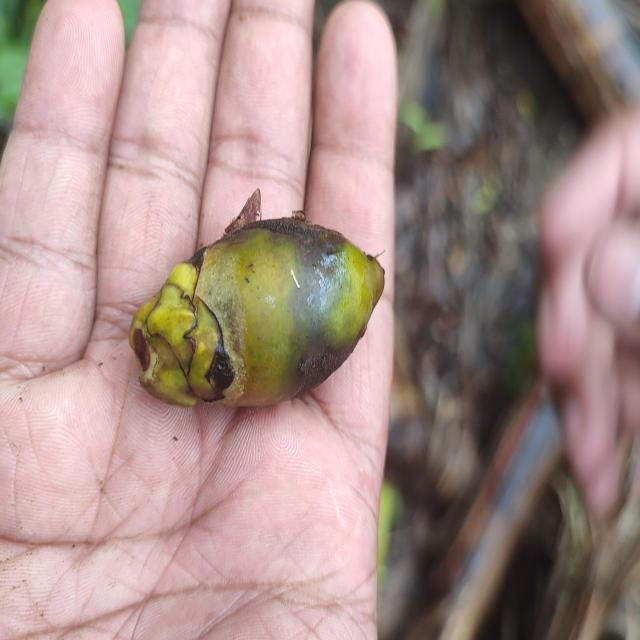damaged: (128, 199, 385, 409)
